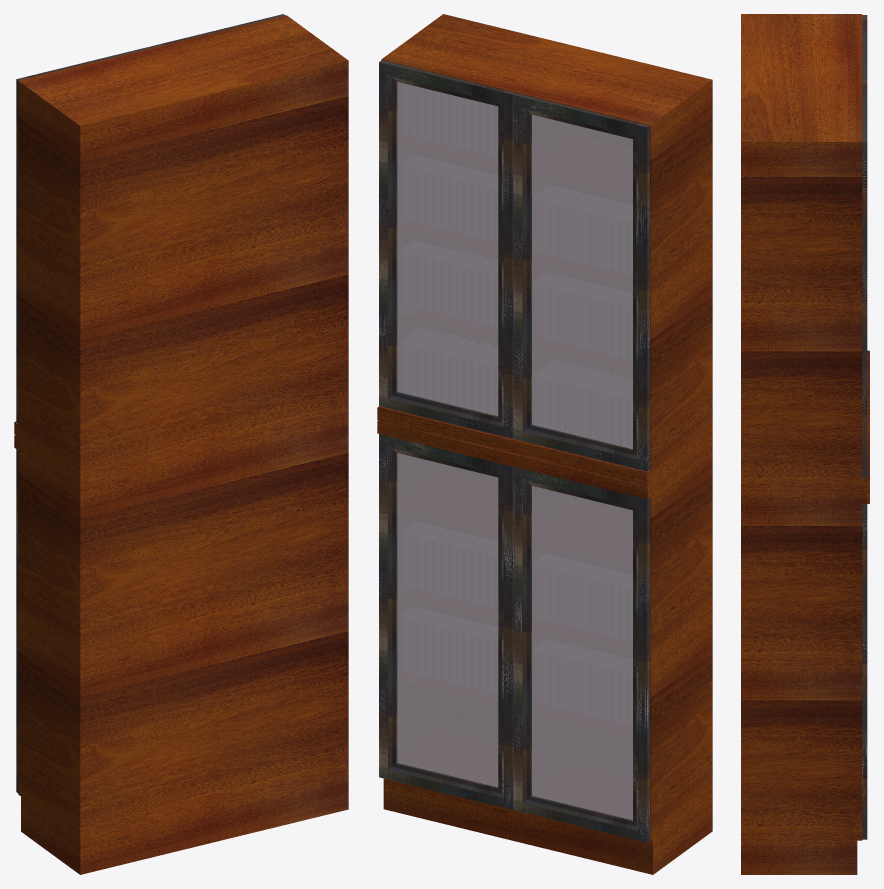
3 renders of one model, left to right at view 1: azimuth 30°, elevation 25°; view 2: azimuth 150°, elevation 25°; view 3: azimuth 270°, elevation 25°, orthographic. The views are drawn at different scales.
Parts seen in each view (by area): view 1: mesh1_mesh1-geometry, mesh149_mesh149-geometry, mesh134_mesh134-geometry; view 2: mesh1_mesh1-geometry, mesh149_mesh149-geometry, mesh134_mesh134-geometry, mesh148_mesh148-geometry, mesh133_mesh133-geometry; view 3: mesh1_mesh1-geometry, mesh148_mesh148-geometry, mesh133_mesh133-geometry, mesh149_mesh149-geometry.
Boxes of the visible parts, x1=… form: mesh1_mesh1-geometry: x1=14, y1=15, x2=348, y2=874; mesh149_mesh149-geometry: x1=16, y1=47, x2=150, y2=423; mesh134_mesh134-geometry: x1=16, y1=449, x2=18, y2=792; mesh1_mesh1-geometry: x1=377, y1=14, x2=712, y2=874; mesh149_mesh149-geometry: x1=513, y1=93, x2=649, y2=471; mesh134_mesh134-geometry: x1=513, y1=467, x2=649, y2=842; mesh148_mesh148-geometry: x1=379, y1=60, x2=515, y2=438; mesh133_mesh133-geometry: x1=379, y1=434, x2=513, y2=809; mesh1_mesh1-geometry: x1=741, y1=14, x2=869, y2=874; mesh148_mesh148-geometry: x1=862, y1=79, x2=867, y2=477; mesh133_mesh133-geometry: x1=862, y1=504, x2=867, y2=839; mesh149_mesh149-geometry: x1=862, y1=15, x2=867, y2=78.
Size of the model in its own units: 0.3473 by 0.9261 by 0.1476.
